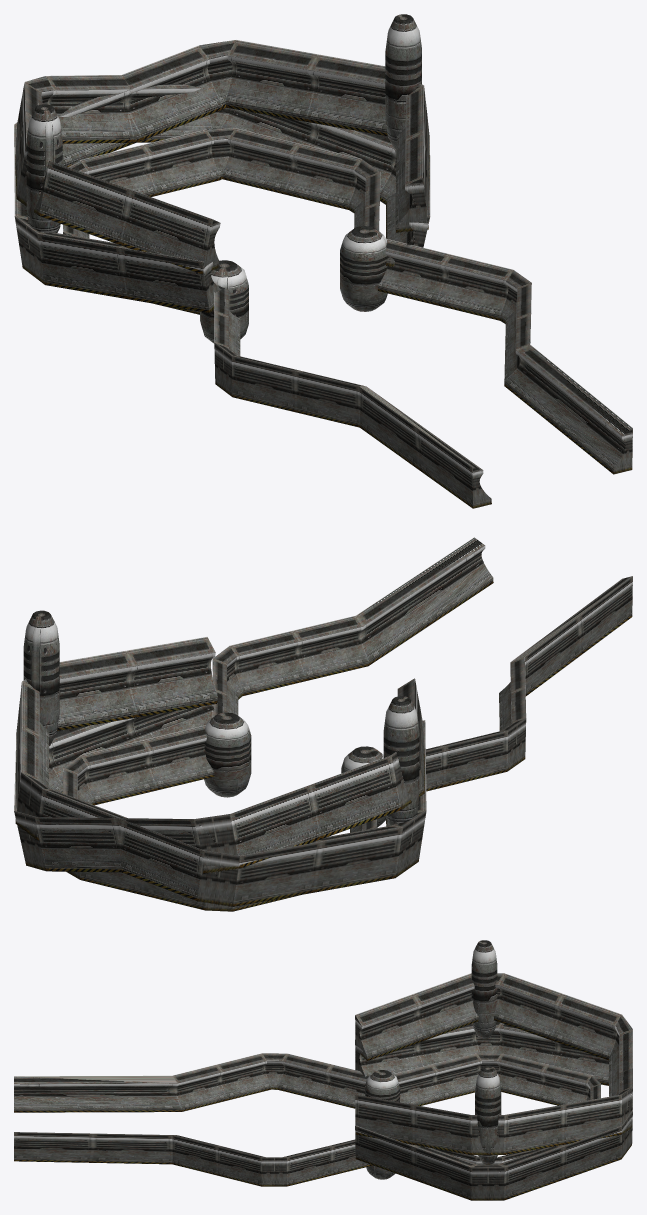
The model's file is huge_wall.FBX.
3 views of the same model, one above another, from view 1: azimuth 30°, elevation 25°; view 2: azimuth 150°, elevation 25°; view 3: azimuth 270°, elevation 25° (orthographic). The views are drawn at different scales.
Parts seen in each view (by area): view 1: SFHuge_wall; view 2: SFHuge_wall; view 3: SFHuge_wall.
Boxes of the visible parts, left/top/right/bottom form: SFHuge_wall: left=14, top=14, right=632, bottom=508; SFHuge_wall: left=14, top=537, right=632, bottom=911; SFHuge_wall: left=14, top=940, right=632, bottom=1200.
Size of the model in its own units: 1397 by 713 by 2677.
